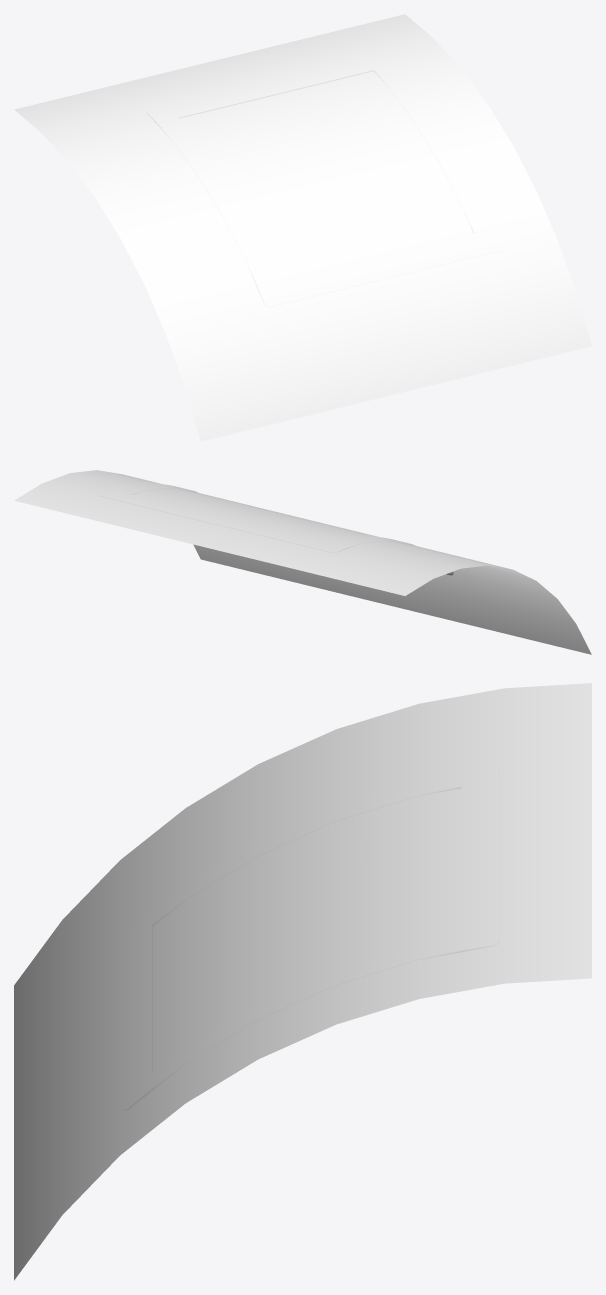
The model's file is grd_F_F_2.dae.
3 views of the same model, one above another, from view 1: azimuth 30°, elevation 25°; view 2: azimuth 150°, elevation 25°; view 3: azimuth 270°, elevation 25° (orthographic). The views are drawn at different scales.
Visible parts, largest first — view 1: grass_1_0, bricks2_0_0; view 2: grass_1_0, bricks2_0_0; view 3: grass_1_0, bricks2_0_0.
Boxes of the visible parts, <box> form: grass_1_0: <box>14,14,591,441</box>; bricks2_0_0: <box>146,52,503,307</box>; grass_1_0: <box>14,470,591,654</box>; bricks2_0_0: <box>97,482,453,575</box>; grass_1_0: <box>14,683,591,1280</box>; bricks2_0_0: <box>123,764,499,1110</box>.
Bounding box in the file's own units: 512 × 244 × 423.
2 materials, 1 textured.
